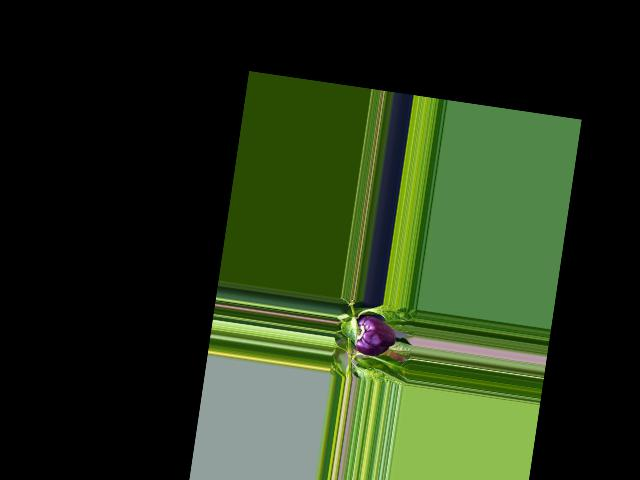bell_pepper: (348, 314, 400, 360)
